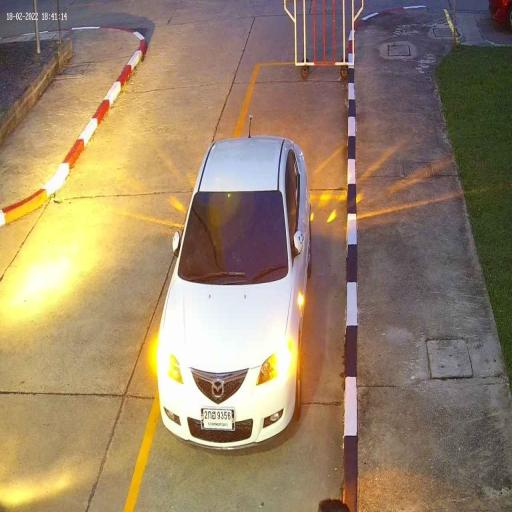car: (155, 134, 312, 452)
